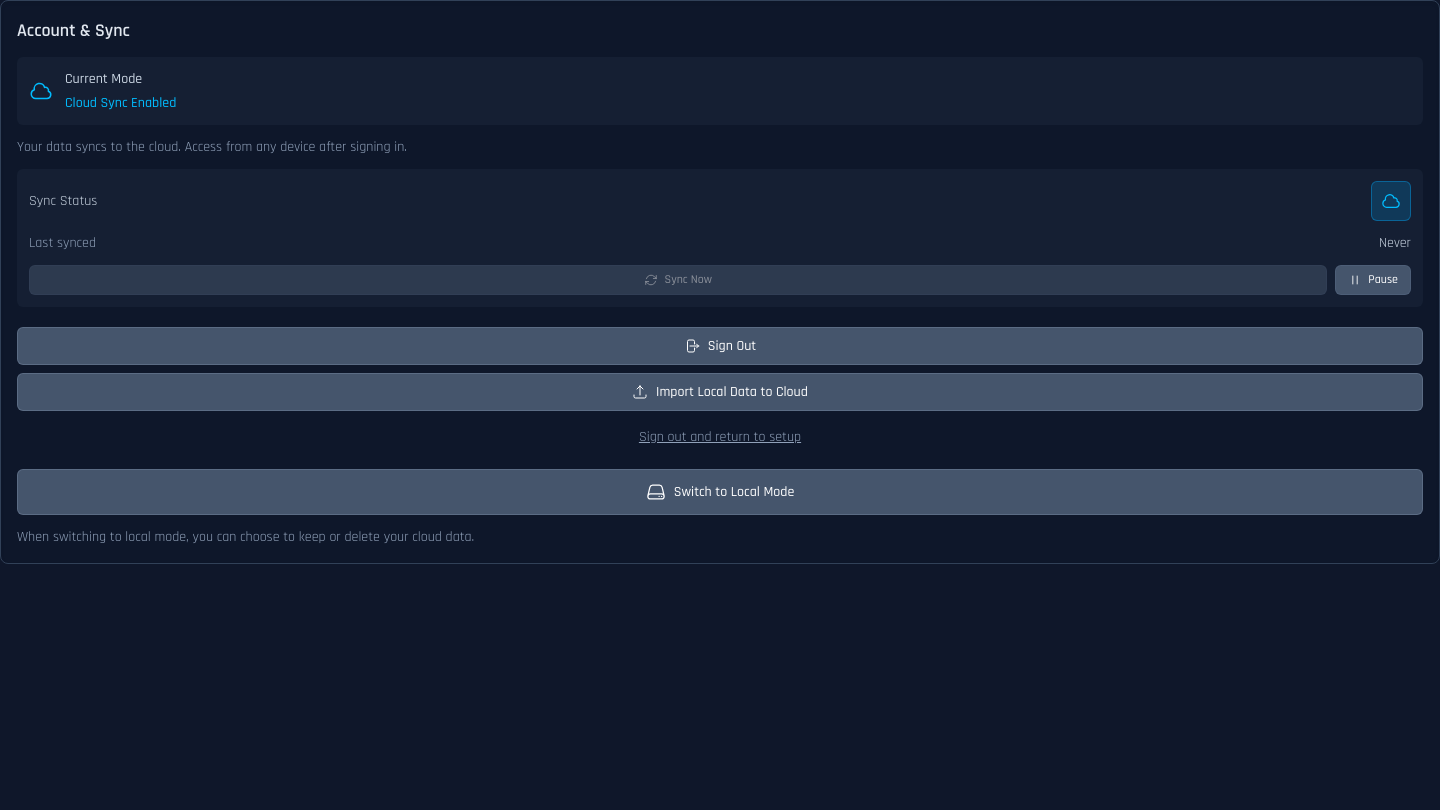
Test: CloudSyncSection › sign out › shows loading state while signing out
The image size is (1440, 810).
Use exact match to distinguish from "Sign out and return to setup" button
Click the button "Sign Out": point(720, 346) top-left (17, 327), bottom-right (1423, 365)
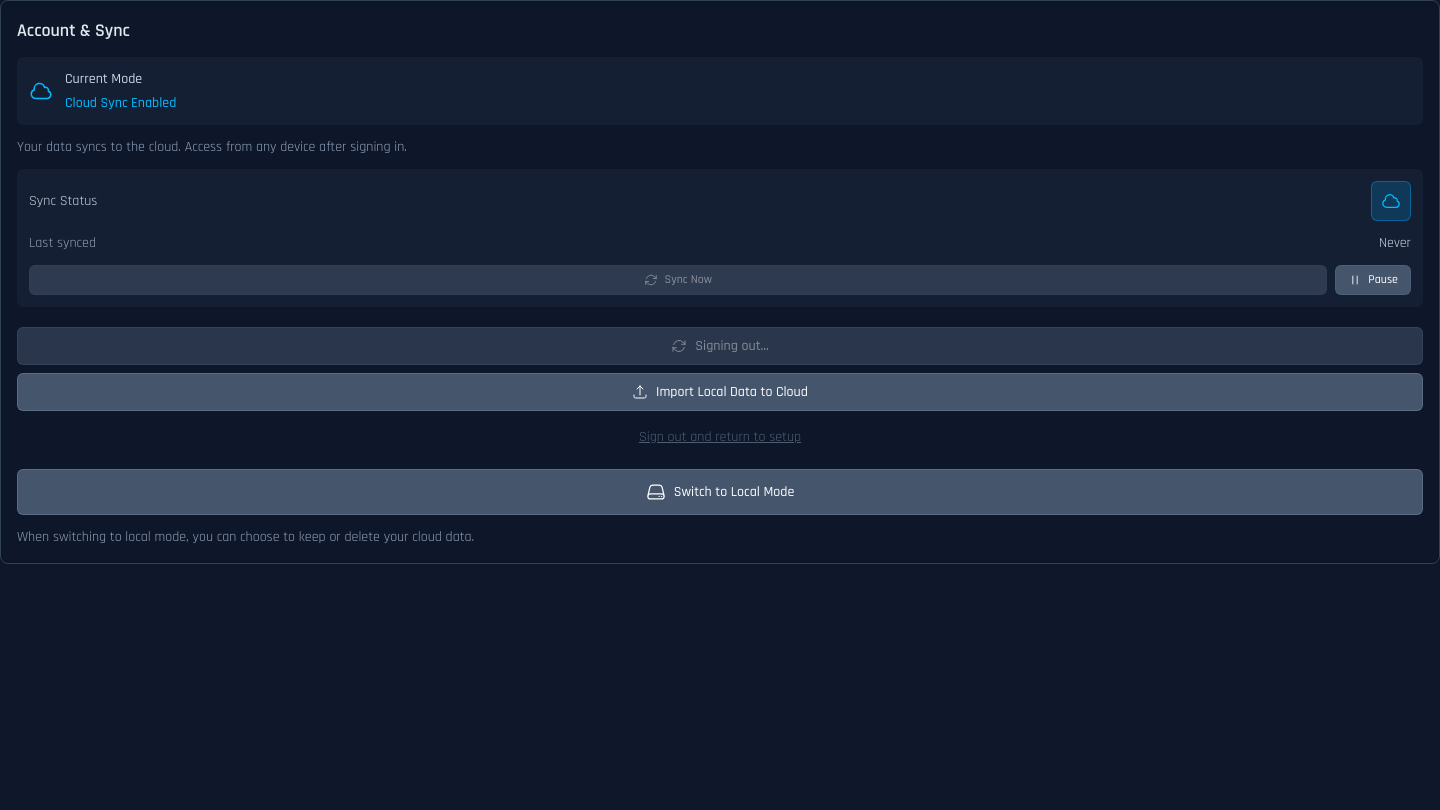
Result: the button "Signing out..." is shown at top-left (17, 327), bottom-right (1423, 365)
